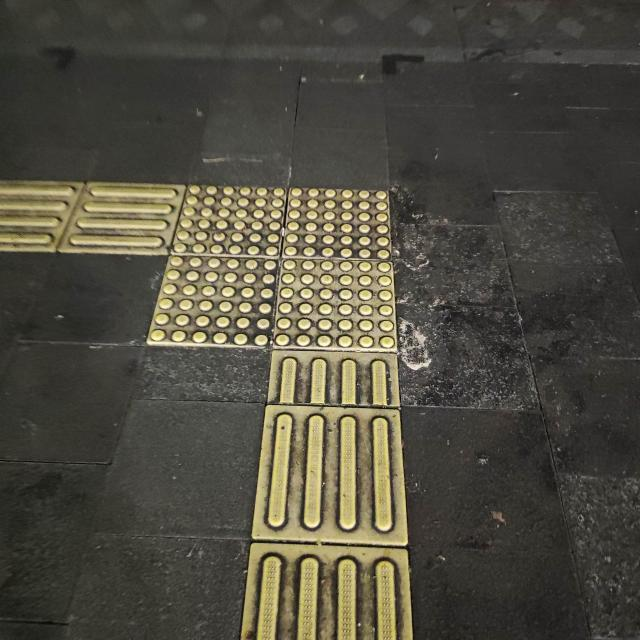kiri: (22, 148, 465, 430)
